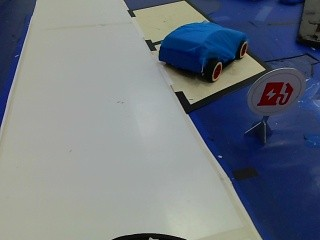battery: (253, 73, 302, 116)
car: (149, 19, 254, 82)
